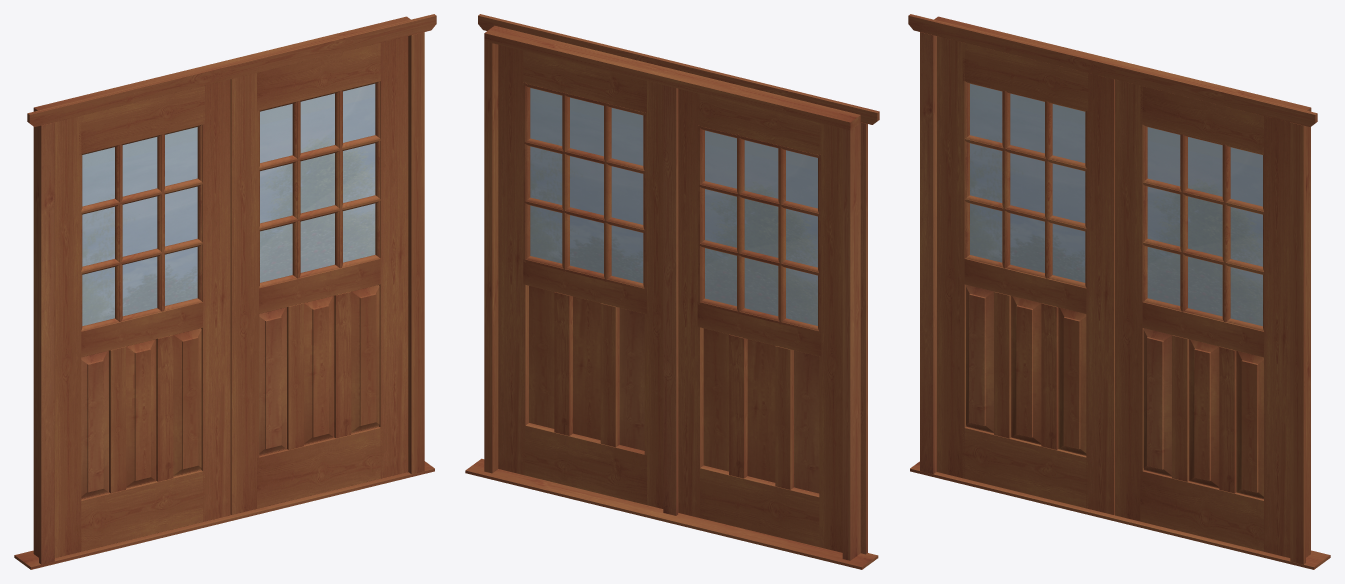
The picture shows the model from 3 angles, left to right: view 1: azimuth 30°, elevation 25°; view 2: azimuth 150°, elevation 25°; view 3: azimuth 330°, elevation 25°; orthographic projection.
Parts seen in each view (by area): view 1: glass, glass001, left_door001, right_door001, right_door, left_door, trim_left, trim_right, trim_top, bottom_door001, bottom_door, top_door (+29 smaller); view 2: glass001, glass, right_door001, left_door, right_door, left_box, left_door001, top_box, astragal, bottom_door001, right_box, bottom_door (+31 smaller); view 3: glass, glass001, right_door, left_door, left_door001, right_door001, trim_right, trim_left, trim_top, bottom_door, bottom_door001, top_door (+29 smaller).
Part boxes in pixels (<box>): glass: <box>82,127,197,325</box>; glass001: <box>260,83,375,282</box>; left_door001: <box>230,73,259,514</box>; right_door001: <box>379,36,408,478</box>; right_door: <box>201,79,230,521</box>; left_door: <box>54,116,81,557</box>; trim_left: <box>39,122,54,564</box>; trim_right: <box>409,32,424,474</box>; trim_top: <box>27,14,436,126</box>; bottom_door001: <box>257,426,382,508</box>; bottom_door: <box>81,470,204,551</box>; top_door: <box>79,85,204,154</box>; glass001: <box>530,88,643,283</box>; glass: <box>705,130,817,325</box>; right_door001: <box>498,44,528,474</box>; left_door: <box>819,123,842,552</box>; right_door: <box>678,88,703,517</box>; left_box: <box>842,123,860,560</box>; left_door001: <box>644,81,663,508</box>; top_box: <box>484,25,860,130</box>; astragal: <box>663,85,678,515</box>; bottom_door001: <box>523,423,646,504</box>; right_box: <box>484,41,498,473</box>; bottom_door: <box>700,465,819,546</box>; glass: <box>970,83,1085,282</box>; glass001: <box>1147,127,1262,326</box>; right_door: <box>1086,73,1114,514</box>; left_door: <box>937,36,966,478</box>; left_door001: <box>1115,79,1143,521</box>; right_door001: <box>1264,116,1290,557</box>; trim_right: <box>1290,122,1305,564</box>; trim_left: <box>920,32,935,474</box>; trim_top: <box>908,14,1317,126</box>; bottom_door: <box>962,427,1088,508</box>; bottom_door001: <box>1140,470,1265,551</box>; top_door: <box>962,42,1088,111</box>.
Size of the model in its own units: 78.09 by 83.5 by 5.5.
